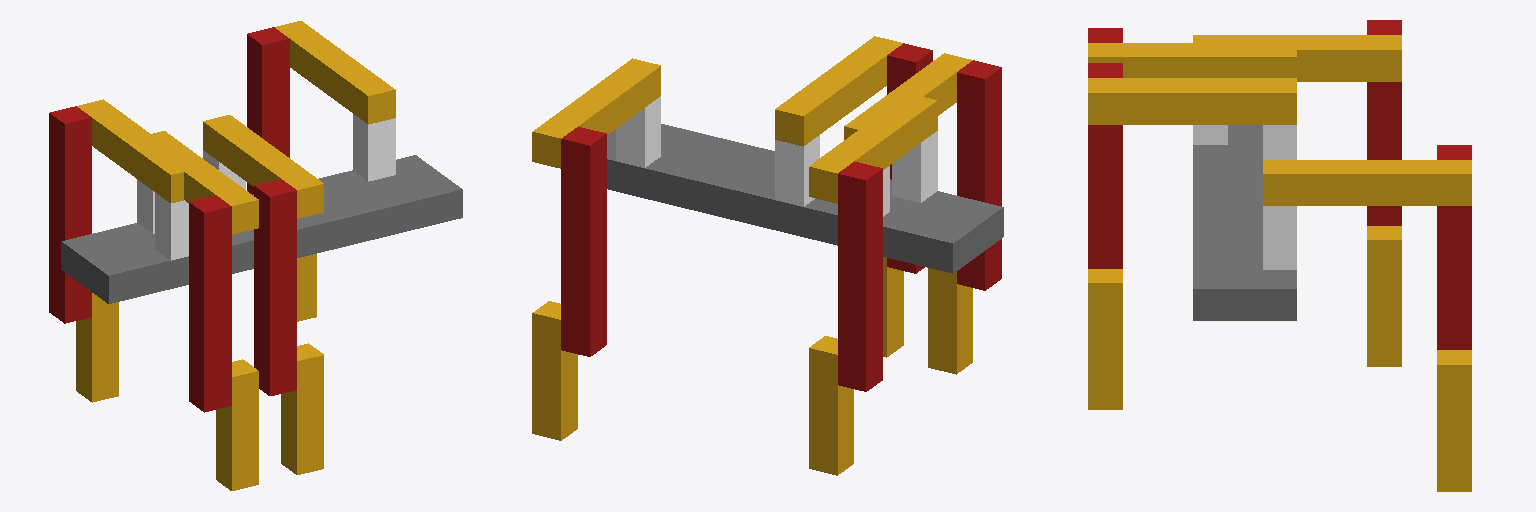
The robot description file, URDF, robot "v0":
<?xml version="1.0" encoding="utf-8"?>
<!-- =================================================================================== -->
<!-- |    This document was autogenerated by xacro from ../robots/v0variants/xacros/v0_4l_10.xacro | -->
<!-- |    EDITING THIS FILE BY HAND IS NOT RECOMMENDED                                 | -->
<!-- =================================================================================== -->
<robot name="v0">
  <material name="grey">
    <color rgba="0.5 0.5 0.5 1"/>
  </material>
  <material name="white">
    <color rgba="1 1 1 1"/>
  </material>
  <material name="yellow">
    <color rgba="0.91 0.7 0.14 1"/>
  </material>
  <material name="red">
    <color rgba="0.71 0.14 0.14 1"/>
  </material>
  <link name="body">
    <visual>
      <geometry>
        <box size="1.3 0.3 0.1"/>
      </geometry>
      <material name="grey"/>
      <origin rpy="0 0 0" xyz="0 0 0.7"/>
    </visual>
    <collision>
      <geometry>
        <box size="1.3 0.3 0.1"/>
      </geometry>
      <origin rpy="0 0 0" xyz="0 0 0.7"/>
    </collision>
    <inertial>
      <mass value="99.84"/>
      <inertia ixx="0.832" ixy="0.0" ixz="0.0" iyy="14.144" iyz="0.0" izz="14.8096"/>
    </inertial>
  </link>
  <link name="l1_segment_1">
    <visual>
      <geometry>
        <box size="0.1 0.1 0.2"/>
      </geometry>
      <material name="white"/>
      <origin rpy="0 0 0" xyz="0 0 0.1"/>
    </visual>
    <collision>
      <geometry>
        <box size="0.1 0.1 0.2"/>
      </geometry>
      <origin rpy="0 0 0" xyz="0 0 0.1"/>
    </collision>
    <inertial>
      <mass value="5.12"/>
      <inertia ixx="0.0213333333333" ixy="0.0" ixz="0.0" iyy="0.0213333333333" iyz="0.0" izz="0.00853333333333"/>
    </inertial>
  </link>
  <joint name="l1_base_to_joint_1" type="fixed">
    <parent link="body"/>
    <child link="l1_segment_1"/>
    <origin rpy="0 0 0" xyz="-0.37205574669176406 -0.1 0.75"/>
  </joint>
  <link name="l1_segment_2_HIP">
    <visual>
      <geometry>
        <box size="0.1 0.6 0.1"/>
      </geometry>
      <material name="yellow"/>
      <origin rpy="0 0 0" xyz="0 0.25 0"/>
    </visual>
    <collision>
      <geometry>
        <box size="0.1 0.6 0.1"/>
      </geometry>
      <origin rpy="0 0 0" xyz="0 0.25 0"/>
    </collision>
    <inertial>
      <mass value="15.36"/>
      <inertia ixx="0.4736" ixy="0.0" ixz="0.0" iyy="0.0256" iyz="0.0" izz="0.4736"/>
    </inertial>
  </link>
  <joint name="l1_joint_1_to_2" type="revolute">
    <parent link="l1_segment_1"/>
    <child link="l1_segment_2_HIP"/>
    <origin rpy="0 0 0" xyz="0 0 0.25"/>
    <axis xyz="0.0 0.0 1.0"/>
    <limit effort="2048" lower="-1.2" upper="1.2" velocity="20"/>
  </joint>
  <link name="l1_segment_3_THIGH">
    <visual>
      <geometry>
        <box size="0.1 0.1 0.7"/>
      </geometry>
      <material name="red"/>
      <origin rpy="0 0 0" xyz="0 0 -0.3"/>
    </visual>
    <collision>
      <geometry>
        <box size="0.1 0.1 0.7"/>
      </geometry>
      <origin rpy="0 0 0" xyz="0 0 -0.3"/>
    </collision>
    <inertial>
      <mass value="17.92"/>
      <inertia ixx="0.746666666667" ixy="0.0" ixz="0.0" iyy="0.746666666667" iyz="0.0" izz="0.0298666666667"/>
    </inertial>
  </link>
  <joint name="l1_joint_2_to_3" type="revolute">
    <parent link="l1_segment_2_HIP"/>
    <child link="l1_segment_3_THIGH"/>
    <origin rpy="0 0 0" xyz="-0.1 0.5 0"/>
    <axis xyz="1.0 0.0 0.0"/>
    <limit effort="2048" lower="-0.2" upper="0.75" velocity="20"/>
  </joint>
  <link name="l1_segment_4_FOOT">
    <visual>
      <geometry>
        <box size="0.1 0.1 0.4"/>
      </geometry>
      <material name="yellow"/>
      <origin rpy="0 0 0" xyz="0 0 -0.2"/>
    </visual>
    <collision>
      <geometry>
        <box size="0.1 0.1 0.4"/>
      </geometry>
      <origin rpy="0 0 0" xyz="0 0 -0.2"/>
    </collision>
    <inertial>
      <mass value="10.24"/>
      <inertia ixx="0.145066666667" ixy="0.0" ixz="0.0" iyy="0.145066666667" iyz="0.0" izz="0.0170666666667"/>
    </inertial>
  </link>
  <joint name="l1_joint_3_to_4_FOOT" type="revolute">
    <parent link="l1_segment_3_THIGH"/>
    <child link="l1_segment_4_FOOT"/>
    <origin rpy="0 0 0" xyz="0.1 0 -0.55"/>
    <axis xyz="1.0 0.0 0.0"/>
    <limit effort="2048" lower="-0.2" upper="0.5" velocity="20"/>
  </joint>
  <link name="r2_segment_1">
    <visual>
      <geometry>
        <box size="0.1 0.1 0.2"/>
      </geometry>
      <material name="white"/>
      <origin rpy="0 0 0" xyz="0 0 0.1"/>
    </visual>
    <collision>
      <geometry>
        <box size="0.1 0.1 0.2"/>
      </geometry>
      <origin rpy="0 0 0" xyz="0 0 0.1"/>
    </collision>
    <inertial>
      <mass value="5.12"/>
      <inertia ixx="0.0213333333333" ixy="0.0" ixz="0.0" iyy="0.0213333333333" iyz="0.0" izz="0.00853333333333"/>
    </inertial>
  </link>
  <joint name="r2_base_to_joint_1" type="fixed">
    <parent link="body"/>
    <child link="r2_segment_1"/>
    <origin rpy="0 0 0" xyz="-0.32188415720109165 0.1 0.75"/>
  </joint>
  <link name="r2_segment_2_HIP">
    <visual>
      <geometry>
        <box size="0.1 0.6 0.1"/>
      </geometry>
      <material name="yellow"/>
      <origin rpy="0 0 0" xyz="0 -0.25 0"/>
    </visual>
    <collision>
      <geometry>
        <box size="0.1 0.6 0.1"/>
      </geometry>
      <origin rpy="0 0 0" xyz="0 -0.25 0"/>
    </collision>
    <inertial>
      <mass value="15.36"/>
      <inertia ixx="0.4736" ixy="0.0" ixz="0.0" iyy="0.0256" iyz="0.0" izz="0.4736"/>
    </inertial>
  </link>
  <joint name="r2_joint_1_to_2" type="revolute">
    <parent link="r2_segment_1"/>
    <child link="r2_segment_2_HIP"/>
    <origin rpy="0 0 0" xyz="0 0 0.25"/>
    <axis xyz="0.0 0.0 1.0"/>
    <limit effort="2048" lower="-1.2" upper="1.2" velocity="20"/>
  </joint>
  <link name="r2_segment_3_THIGH">
    <visual>
      <geometry>
        <box size="0.1 0.1 0.7"/>
      </geometry>
      <material name="red"/>
      <origin rpy="0 0 0" xyz="0 0 -0.3"/>
    </visual>
    <collision>
      <geometry>
        <box size="0.1 0.1 0.7"/>
      </geometry>
      <origin rpy="0 0 0" xyz="0 0 -0.3"/>
    </collision>
    <inertial>
      <mass value="17.92"/>
      <inertia ixx="0.746666666667" ixy="0.0" ixz="0.0" iyy="0.746666666667" iyz="0.0" izz="0.0298666666667"/>
    </inertial>
  </link>
  <joint name="r2_joint_2_to_3" type="revolute">
    <parent link="r2_segment_2_HIP"/>
    <child link="r2_segment_3_THIGH"/>
    <origin rpy="0 0 0" xyz="-0.1 -0.5 0"/>
    <axis xyz="1.0 0.0 0.0"/>
    <limit effort="2048" lower="-0.75" upper="0.2" velocity="20"/>
  </joint>
  <link name="r2_segment_4_FOOT">
    <visual>
      <geometry>
        <box size="0.1 0.1 0.4"/>
      </geometry>
      <material name="yellow"/>
      <origin rpy="0 0 0" xyz="0 0 -0.2"/>
    </visual>
    <collision>
      <geometry>
        <box size="0.1 0.1 0.4"/>
      </geometry>
      <origin rpy="0 0 0" xyz="0 0 -0.2"/>
    </collision>
    <inertial>
      <mass value="10.24"/>
      <inertia ixx="0.145066666667" ixy="0.0" ixz="0.0" iyy="0.145066666667" iyz="0.0" izz="0.0170666666667"/>
    </inertial>
  </link>
  <joint name="r2_joint_3_to_4_FOOT" type="revolute">
    <parent link="r2_segment_3_THIGH"/>
    <child link="r2_segment_4_FOOT"/>
    <origin rpy="0 0 0" xyz="0.1 0 -0.55"/>
    <axis xyz="1.0 0.0 0.0"/>
    <limit effort="2048" lower="-0.5" upper="0.2" velocity="20"/>
  </joint>
  <link name="l3_segment_1">
    <visual>
      <geometry>
        <box size="0.1 0.1 0.2"/>
      </geometry>
      <material name="white"/>
      <origin rpy="0 0 0" xyz="0 0 0.1"/>
    </visual>
    <collision>
      <geometry>
        <box size="0.1 0.1 0.2"/>
      </geometry>
      <origin rpy="0 0 0" xyz="0 0 0.1"/>
    </collision>
    <inertial>
      <mass value="5.12"/>
      <inertia ixx="0.0213333333333" ixy="0.0" ixz="0.0" iyy="0.0213333333333" iyz="0.0" izz="0.00853333333333"/>
    </inertial>
  </link>
  <joint name="l3_base_to_joint_1" type="fixed">
    <parent link="body"/>
    <child link="l3_segment_1"/>
    <origin rpy="0 0 0" xyz="0.46870575826137995 0.1 0.75"/>
  </joint>
  <link name="l3_segment_2_HIP">
    <visual>
      <geometry>
        <box size="0.1 0.6 0.1"/>
      </geometry>
      <material name="yellow"/>
      <origin rpy="0 0 0" xyz="0 0.25 0"/>
    </visual>
    <collision>
      <geometry>
        <box size="0.1 0.6 0.1"/>
      </geometry>
      <origin rpy="0 0 0" xyz="0 0.25 0"/>
    </collision>
    <inertial>
      <mass value="15.36"/>
      <inertia ixx="0.4736" ixy="0.0" ixz="0.0" iyy="0.0256" iyz="0.0" izz="0.4736"/>
    </inertial>
  </link>
  <joint name="l3_joint_1_to_2" type="revolute">
    <parent link="l3_segment_1"/>
    <child link="l3_segment_2_HIP"/>
    <origin rpy="0 0 0" xyz="0 0 0.25"/>
    <axis xyz="0.0 0.0 1.0"/>
    <limit effort="2048" lower="-1.2" upper="1.2" velocity="20"/>
  </joint>
  <link name="l3_segment_3_THIGH">
    <visual>
      <geometry>
        <box size="0.1 0.1 0.7"/>
      </geometry>
      <material name="red"/>
      <origin rpy="0 0 0" xyz="0 0 -0.3"/>
    </visual>
    <collision>
      <geometry>
        <box size="0.1 0.1 0.7"/>
      </geometry>
      <origin rpy="0 0 0" xyz="0 0 -0.3"/>
    </collision>
    <inertial>
      <mass value="17.92"/>
      <inertia ixx="0.746666666667" ixy="0.0" ixz="0.0" iyy="0.746666666667" iyz="0.0" izz="0.0298666666667"/>
    </inertial>
  </link>
  <joint name="l3_joint_2_to_3" type="revolute">
    <parent link="l3_segment_2_HIP"/>
    <child link="l3_segment_3_THIGH"/>
    <origin rpy="0 0 0" xyz="-0.1 0.5 0"/>
    <axis xyz="1.0 0.0 0.0"/>
    <limit effort="2048" lower="-0.2" upper="0.75" velocity="20"/>
  </joint>
  <link name="l3_segment_4_FOOT">
    <visual>
      <geometry>
        <box size="0.1 0.1 0.4"/>
      </geometry>
      <material name="yellow"/>
      <origin rpy="0 0 0" xyz="0 0 -0.2"/>
    </visual>
    <collision>
      <geometry>
        <box size="0.1 0.1 0.4"/>
      </geometry>
      <origin rpy="0 0 0" xyz="0 0 -0.2"/>
    </collision>
    <inertial>
      <mass value="10.24"/>
      <inertia ixx="0.145066666667" ixy="0.0" ixz="0.0" iyy="0.145066666667" iyz="0.0" izz="0.0170666666667"/>
    </inertial>
  </link>
  <joint name="l3_joint_3_to_4_FOOT" type="revolute">
    <parent link="l3_segment_3_THIGH"/>
    <child link="l3_segment_4_FOOT"/>
    <origin rpy="0 0 0" xyz="0.1 0 -0.55"/>
    <axis xyz="1.0 0.0 0.0"/>
    <limit effort="2048" lower="-0.2" upper="0.5" velocity="20"/>
  </joint>
  <link name="r4_segment_1">
    <visual>
      <geometry>
        <box size="0.1 0.1 0.2"/>
      </geometry>
      <material name="white"/>
      <origin rpy="0 0 0" xyz="0 0 0.1"/>
    </visual>
    <collision>
      <geometry>
        <box size="0.1 0.1 0.2"/>
      </geometry>
      <origin rpy="0 0 0" xyz="0 0 0.1"/>
    </collision>
    <inertial>
      <mass value="5.12"/>
      <inertia ixx="0.0213333333333" ixy="0.0" ixz="0.0" iyy="0.0213333333333" iyz="0.0" izz="0.00853333333333"/>
    </inertial>
  </link>
  <joint name="r4_base_to_joint_1" type="fixed">
    <parent link="body"/>
    <child link="r4_segment_1"/>
    <origin rpy="0 0 0" xyz="-0.0813096980711211 0.1 0.75"/>
  </joint>
  <link name="r4_segment_2_HIP">
    <visual>
      <geometry>
        <box size="0.1 0.6 0.1"/>
      </geometry>
      <material name="yellow"/>
      <origin rpy="0 0 0" xyz="0 -0.25 0"/>
    </visual>
    <collision>
      <geometry>
        <box size="0.1 0.6 0.1"/>
      </geometry>
      <origin rpy="0 0 0" xyz="0 -0.25 0"/>
    </collision>
    <inertial>
      <mass value="15.36"/>
      <inertia ixx="0.4736" ixy="0.0" ixz="0.0" iyy="0.0256" iyz="0.0" izz="0.4736"/>
    </inertial>
  </link>
  <joint name="r4_joint_1_to_2" type="revolute">
    <parent link="r4_segment_1"/>
    <child link="r4_segment_2_HIP"/>
    <origin rpy="0 0 0" xyz="0 0 0.25"/>
    <axis xyz="0.0 0.0 1.0"/>
    <limit effort="2048" lower="-1.2" upper="1.2" velocity="20"/>
  </joint>
  <link name="r4_segment_3_THIGH">
    <visual>
      <geometry>
        <box size="0.1 0.1 0.7"/>
      </geometry>
      <material name="red"/>
      <origin rpy="0 0 0" xyz="0 0 -0.3"/>
    </visual>
    <collision>
      <geometry>
        <box size="0.1 0.1 0.7"/>
      </geometry>
      <origin rpy="0 0 0" xyz="0 0 -0.3"/>
    </collision>
    <inertial>
      <mass value="17.92"/>
      <inertia ixx="0.746666666667" ixy="0.0" ixz="0.0" iyy="0.746666666667" iyz="0.0" izz="0.0298666666667"/>
    </inertial>
  </link>
  <joint name="r4_joint_2_to_3" type="revolute">
    <parent link="r4_segment_2_HIP"/>
    <child link="r4_segment_3_THIGH"/>
    <origin rpy="0 0 0" xyz="-0.1 -0.5 0"/>
    <axis xyz="1.0 0.0 0.0"/>
    <limit effort="2048" lower="-0.75" upper="0.2" velocity="20"/>
  </joint>
  <link name="r4_segment_4_FOOT">
    <visual>
      <geometry>
        <box size="0.1 0.1 0.4"/>
      </geometry>
      <material name="yellow"/>
      <origin rpy="0 0 0" xyz="0 0 -0.2"/>
    </visual>
    <collision>
      <geometry>
        <box size="0.1 0.1 0.4"/>
      </geometry>
      <origin rpy="0 0 0" xyz="0 0 -0.2"/>
    </collision>
    <inertial>
      <mass value="10.24"/>
      <inertia ixx="0.145066666667" ixy="0.0" ixz="0.0" iyy="0.145066666667" iyz="0.0" izz="0.0170666666667"/>
    </inertial>
  </link>
  <joint name="r4_joint_3_to_4_FOOT" type="revolute">
    <parent link="r4_segment_3_THIGH"/>
    <child link="r4_segment_4_FOOT"/>
    <origin rpy="0 0 0" xyz="0.1 0 -0.55"/>
    <axis xyz="1.0 0.0 0.0"/>
    <limit effort="2048" lower="-0.5" upper="0.2" velocity="20"/>
  </joint>
</robot>

--- What the picture shows (computed from the rendered views, not written in the file) ---
3 views of the same robot in one strip: view 1: azimuth 30°, elevation 25°; view 2: azimuth 150°, elevation 25°; view 3: azimuth 270°, elevation 25° (orthographic).
Robot: v0 — 17 links, 16 joints (12 revolute, 4 fixed); root link body; default pose: all joints at 0.
Visible links, largest first — view 1: body, r2_segment_3_THIGH, r4_segment_3_THIGH, l1_segment_3_THIGH, l3_segment_2_HIP, l1_segment_2_HIP, r4_segment_2_HIP, l3_segment_3_THIGH, r2_segment_4_FOOT, r4_segment_4_FOOT, l1_segment_4_FOOT, r2_segment_2_HIP (+4 smaller); view 2: body, l3_segment_3_THIGH, l1_segment_3_THIGH, r2_segment_3_THIGH, r4_segment_2_HIP, l1_segment_2_HIP, l3_segment_2_HIP, l3_segment_4_FOOT, l1_segment_4_FOOT, r2_segment_4_FOOT, r2_segment_2_HIP, l1_segment_1 (+4 smaller); view 3: body, r4_segment_2_HIP, l3_segment_2_HIP, l1_segment_2_HIP, r2_segment_2_HIP, l3_segment_3_THIGH, r4_segment_3_THIGH, l3_segment_4_FOOT, l1_segment_4_FOOT, r4_segment_4_FOOT, l1_segment_3_THIGH, l3_segment_1 (+3 smaller).
Boxes of the visible links, x1,y1,x2,y2 form: body: [61, 155, 462, 303]; r2_segment_3_THIGH: [189, 195, 231, 412]; r4_segment_3_THIGH: [254, 179, 296, 395]; l1_segment_3_THIGH: [49, 106, 91, 323]; l3_segment_2_HIP: [275, 21, 395, 124]; l1_segment_2_HIP: [77, 99, 197, 202]; r4_segment_2_HIP: [203, 115, 323, 218]; l3_segment_3_THIGH: [247, 27, 289, 194]; r2_segment_4_FOOT: [216, 359, 258, 490]; r4_segment_4_FOOT: [281, 343, 323, 474]; l1_segment_4_FOOT: [76, 293, 118, 402]; r2_segment_2_HIP: [152, 131, 258, 234]; body: [607, 124, 1003, 273]; l3_segment_3_THIGH: [561, 127, 606, 356]; l1_segment_3_THIGH: [838, 161, 882, 391]; r2_segment_3_THIGH: [957, 60, 1001, 290]; r4_segment_2_HIP: [775, 36, 902, 146]; l1_segment_2_HIP: [809, 93, 937, 203]; l3_segment_2_HIP: [532, 58, 660, 168]; l3_segment_4_FOOT: [532, 301, 577, 440]; l1_segment_4_FOOT: [809, 336, 853, 475]; r2_segment_4_FOOT: [928, 268, 972, 374]; r2_segment_2_HIP: [844, 53, 972, 139]; l1_segment_1: [892, 131, 937, 202]; body: [1193, 125, 1296, 320]; r4_segment_2_HIP: [1088, 78, 1296, 124]; l3_segment_2_HIP: [1263, 160, 1471, 205]; l1_segment_2_HIP: [1193, 35, 1401, 81]; r2_segment_2_HIP: [1088, 43, 1296, 77]; l3_segment_3_THIGH: [1437, 145, 1471, 349]; r4_segment_3_THIGH: [1088, 63, 1122, 268]; l3_segment_4_FOOT: [1437, 350, 1471, 491]; l1_segment_4_FOOT: [1367, 226, 1401, 366]; r4_segment_4_FOOT: [1088, 269, 1122, 409]; l1_segment_3_THIGH: [1367, 20, 1401, 225]; l3_segment_1: [1263, 206, 1296, 269].
Size in the robot's own frame: 1.3 by 1.1 by 1 metres.
Geometry: primitives only (box / cylinder / sphere), no mesh files.